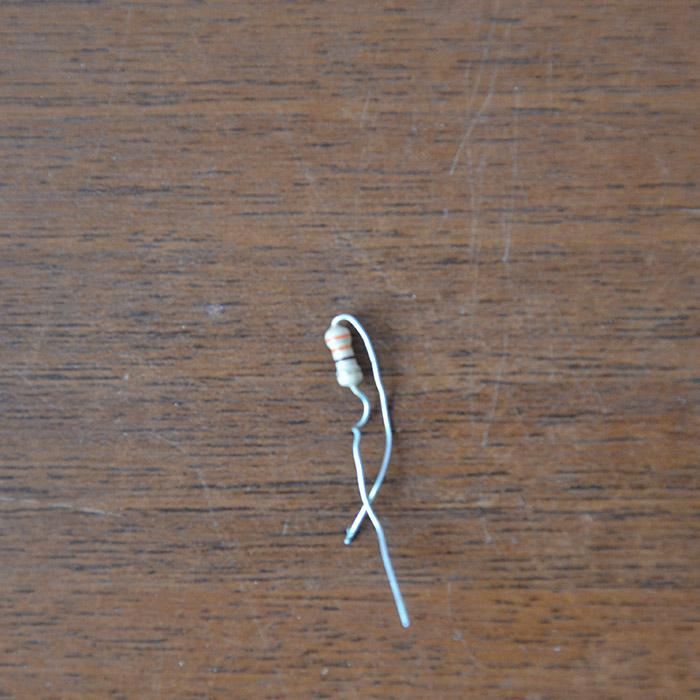resistor: (323, 321, 362, 390)
